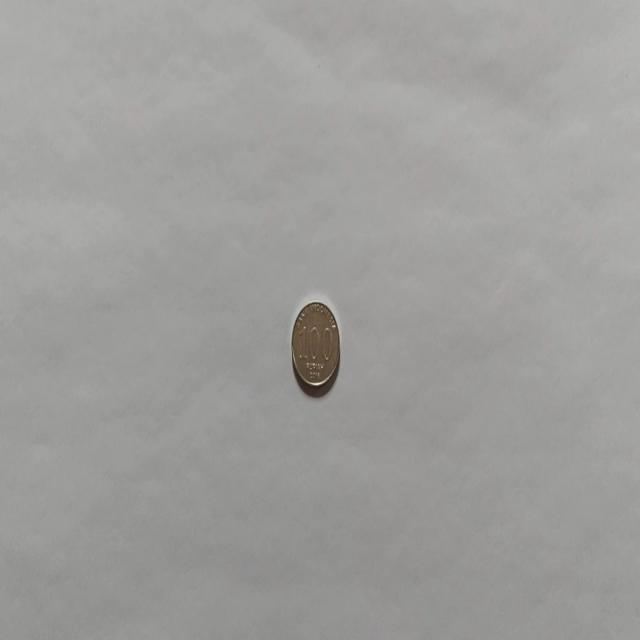seratus rupiah: (290, 298, 340, 392)
